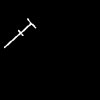double_crochet: (4, 19, 35, 47)
